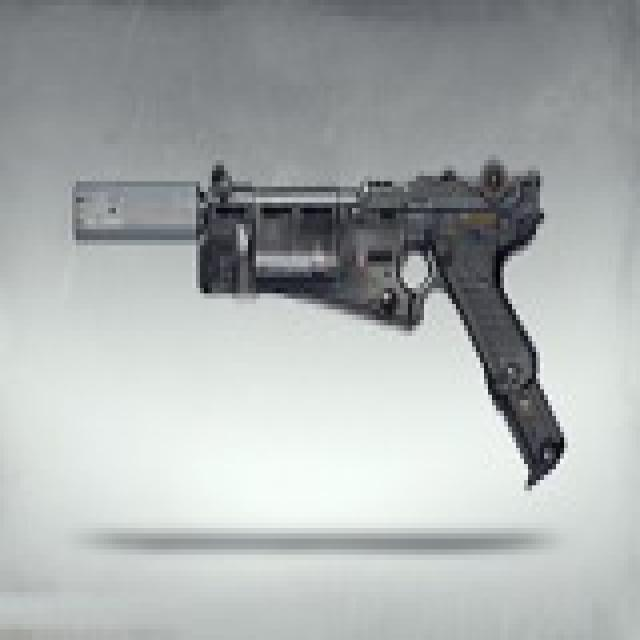Gun: (63, 152, 592, 498)
